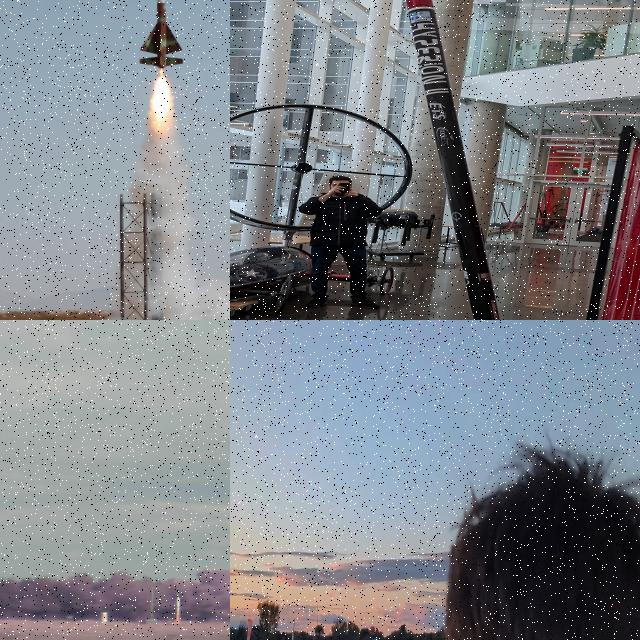Rocket: (406, 0, 500, 320), (139, 0, 184, 69), (172, 597, 182, 625), (289, 631, 293, 640)
